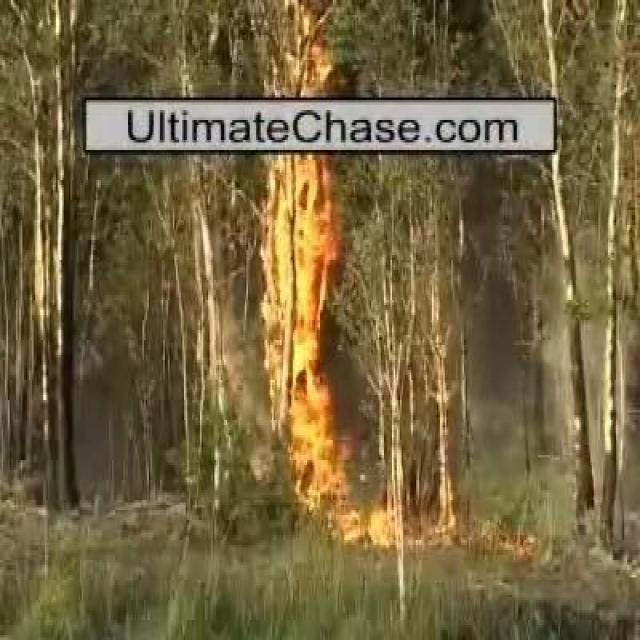Fire: (269, 155, 347, 520), (322, 500, 402, 552)
